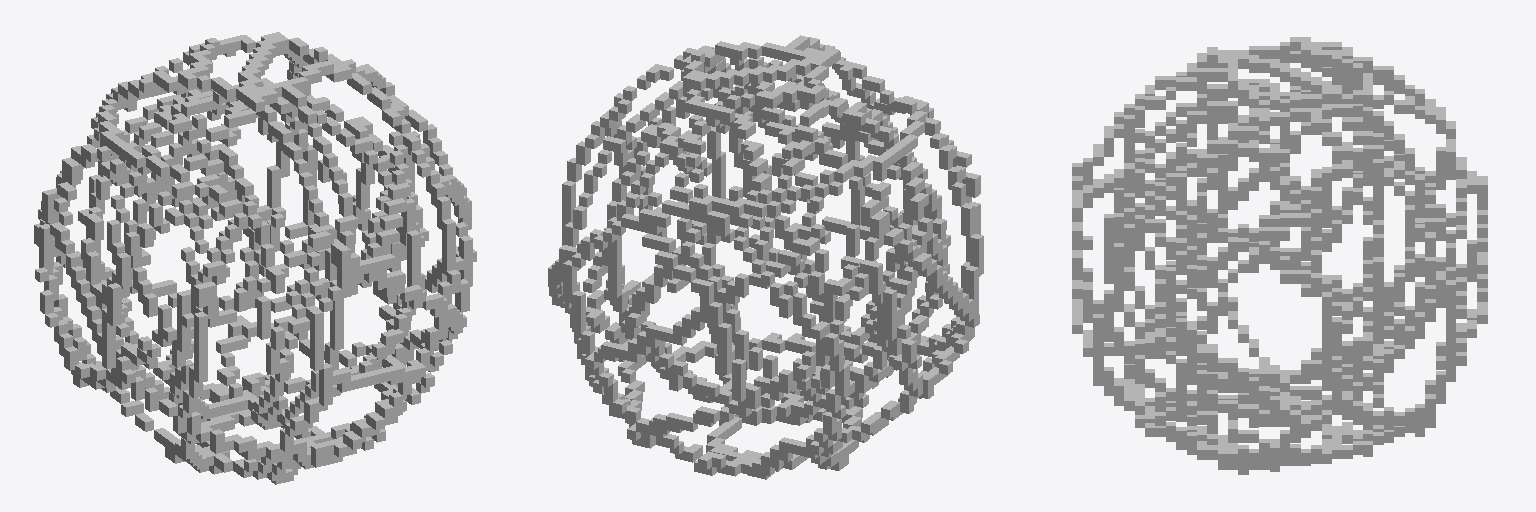
Rendered from мертвый куст.obj.
The picture shows the model from 3 angles: view 1: azimuth 30°, elevation 25°; view 2: azimuth 150°, elevation 25°; view 3: azimuth 270°, elevation 25°; orthographic projection.
Parts seen in each view (by area): view 1: object 1; view 2: object 1; view 3: object 1.
Part boxes in pixels (bbox=[...]): object 1: bbox=[34, 32, 476, 484]; object 1: bbox=[548, 35, 983, 479]; object 1: bbox=[1072, 37, 1487, 474].
Size of the model in its own units: 4 by 4 by 4.